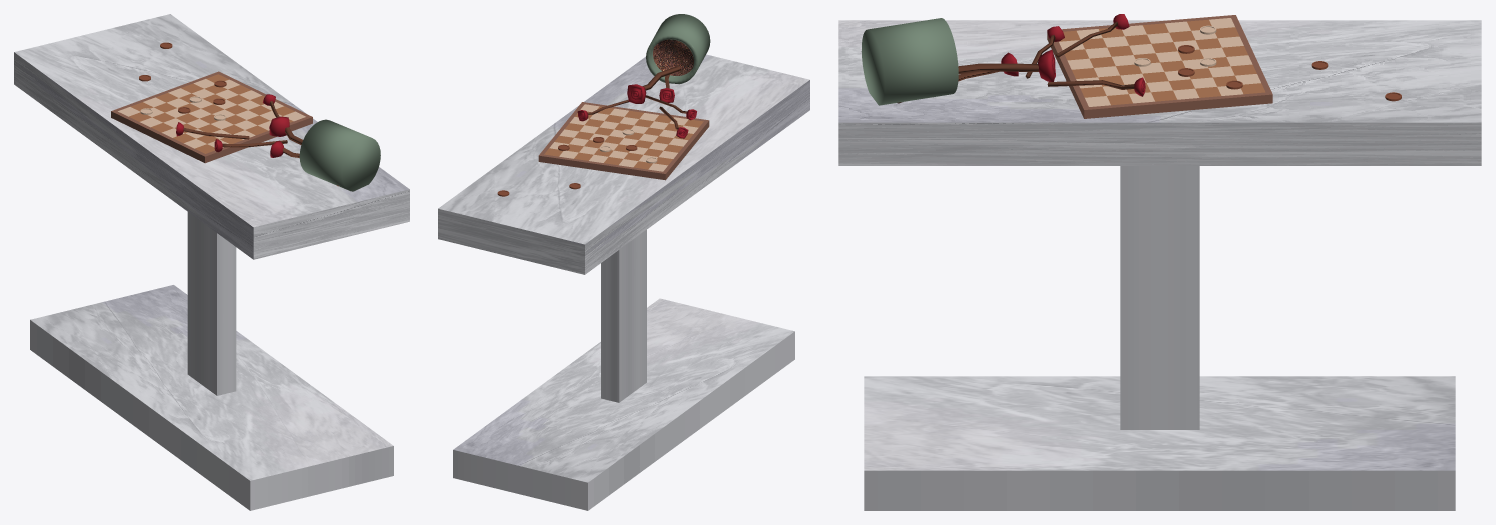
Rendered from ChessBoard.glb.
The picture shows the model from 3 angles, left to right: view 1: azimuth 30°, elevation 25°; view 2: azimuth 150°, elevation 25°; view 3: azimuth 270°, elevation 25°; orthographic projection. The views are drawn at different scales.
Parts seen in each view (by area): view 1: stand, chessboard, VaseTable, rose, rosebranch; view 2: stand, chessboard, VaseTable, rose, rosebranch; view 3: stand, chessboard, VaseTable, rosebranch, rose.
Part boxes in pixels (bbox=[...]): stand: bbox=[14, 14, 409, 510]; chessboard: bbox=[111, 71, 312, 163]; VaseTable: bbox=[299, 119, 380, 191]; rose: bbox=[176, 94, 289, 157]; rosebranch: bbox=[183, 101, 338, 186]; stand: bbox=[438, 54, 809, 510]; chessboard: bbox=[538, 102, 709, 180]; VaseTable: bbox=[646, 14, 710, 84]; rose: bbox=[577, 84, 696, 138]; rosebranch: bbox=[588, 66, 686, 129]; stand: bbox=[838, 20, 1481, 510]; chessboard: bbox=[1047, 15, 1272, 118]; VaseTable: bbox=[861, 18, 958, 105]; rosebranch: bbox=[897, 21, 1134, 103]; rose: bbox=[1001, 14, 1145, 96].
Size of the model in its own units: 0.5569 by 1.17 by 1.48.
Materials: 4 (4 with a texture image).
